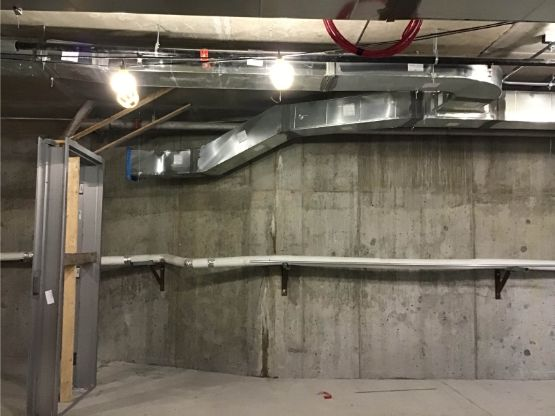Duct: (122, 85, 554, 186), (1, 34, 505, 114)
